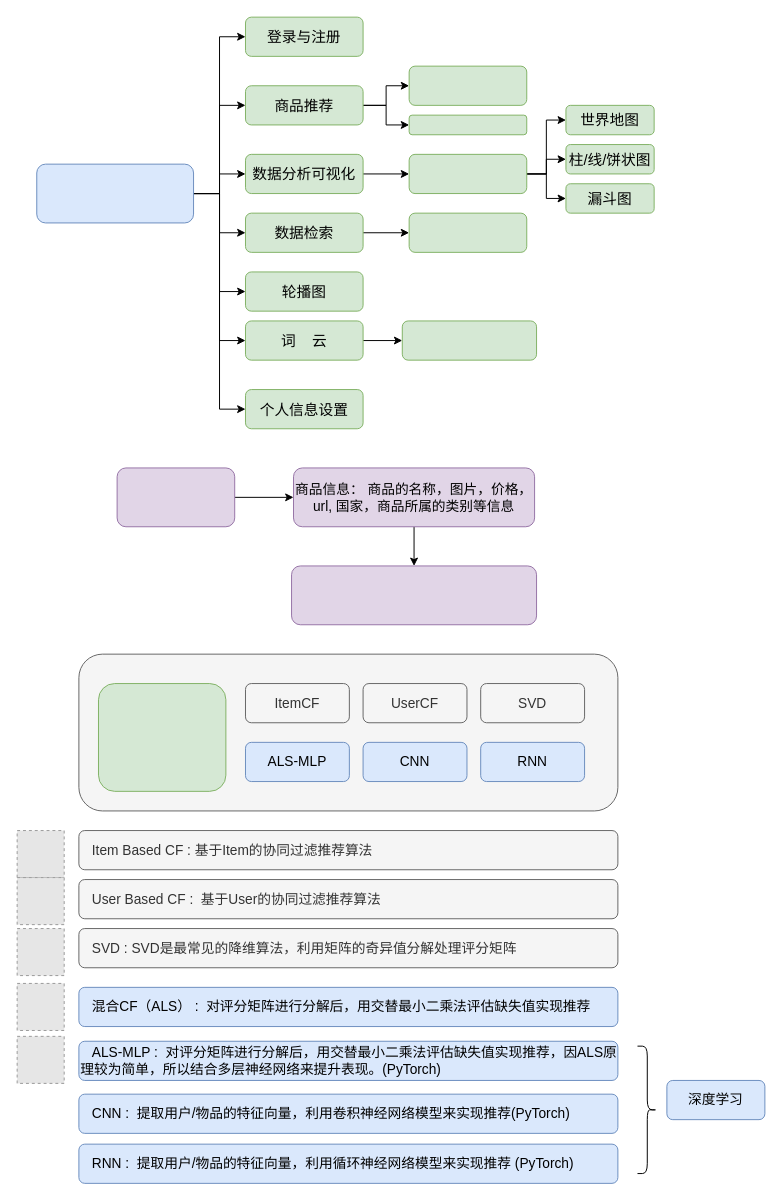
The diagram is 782 pixels wide and 1201 high, and some of its shapes have lost their labels. Grey dashed boxes stand in for pictures. The shapes that lost their labels are listed below. From the top down, each one's centre as x and y in pixels, then its label:
At point 467,85: "UserCF、ItemCF协同过滤推荐算法".
At point 467,124: "SVD 推荐算法".
At point 115,193: "电影推荐可视化".
At point 467,173: "Echarts 可视化".
At point 467,232: "数据表格".
At point 469,340: "[商品评论] 词云".
At point 175,497: "京东海外购爬虫 （一带一路国家）".
At point 414,595: "评论： 评论人、头像、内容、回复数等信息".
At point 162,737: "推荐算法".
